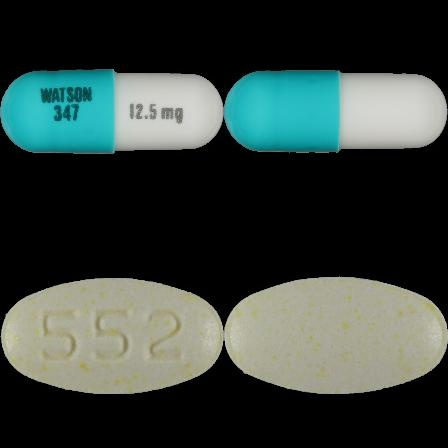52125-216: (0, 0, 224, 224)
